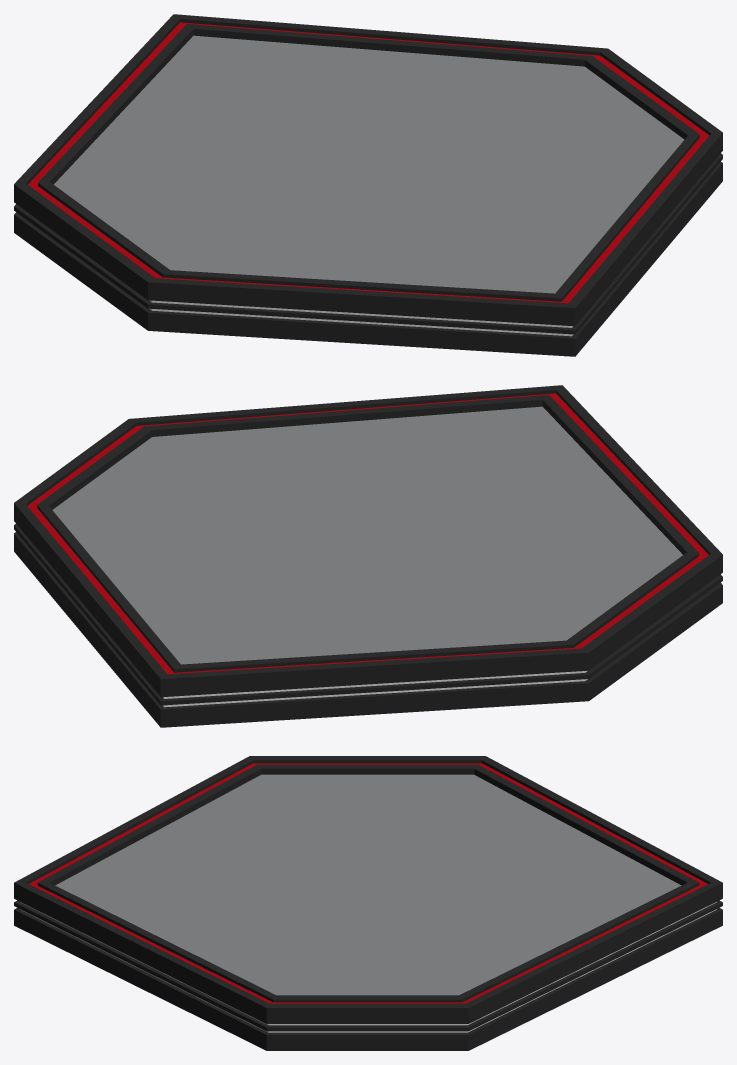
File: QA02-Test1-MagneticPlatform.fbx
3 views of the same model, one above another, from view 1: azimuth 30°, elevation 25°; view 2: azimuth 150°, elevation 25°; view 3: azimuth 270°, elevation 25° (orthographic). The views are drawn at different scales.
Parts seen in each view (by area): view 1: UpperMagneticPlaque, MagPlatform; view 2: UpperMagneticPlaque, MagPlatform; view 3: UpperMagneticPlaque, MagPlatform.
Part boxes in pixels (x1,y1,x2,y2): UpperMagneticPlaque: [54, 35, 684, 293]; MagPlatform: [14, 14, 722, 356]; UpperMagneticPlaque: [52, 406, 682, 664]; MagPlatform: [14, 385, 722, 727]; UpperMagneticPlaque: [55, 774, 681, 995]; MagPlatform: [14, 756, 722, 1050].
Size of the model in its own units: 6.28 by 0.4995 by 7.48.
